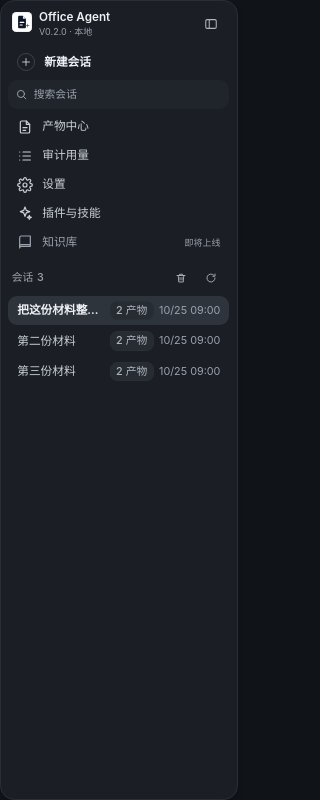
Test case: 最近会话：批量清理 › 没勾任何会话时删除按钮不可用；Esc 退出选择模式
Later steps or results of the test are not shown.
Click the button named "批量清理会话". click: (181, 278)
box: [166,264,195,292]
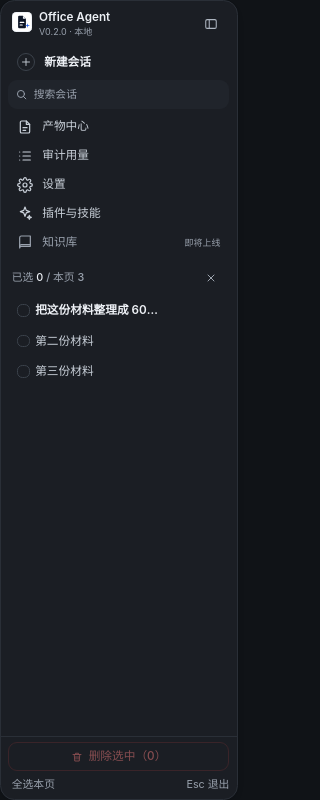
Check: the button "删除选中（0）" is disabled, box [8,742,229,771]
